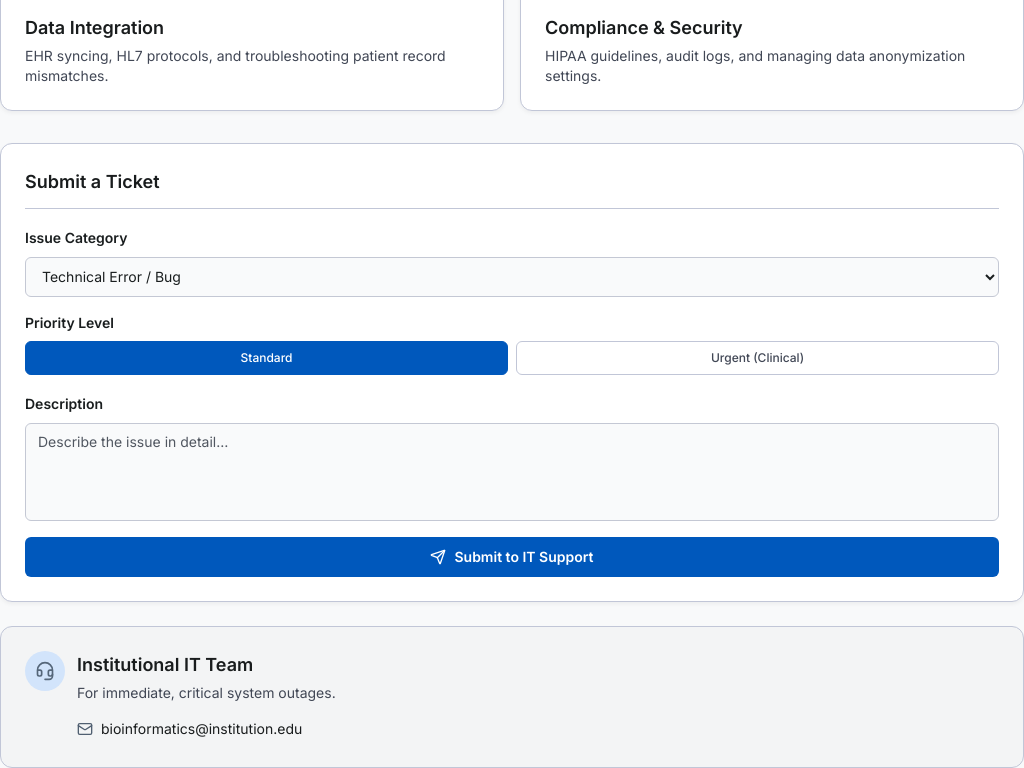
Test: SupportPage (RTS-040) › requires description before submitting ticket
The width and height of the screenshot is (1024, 768).
(page scrolled)
What coordinates should you click on to do the following:
click the button "Submit to IT Support"
I would click on:
 (512, 557)
Its box is left=25, top=537, right=999, bottom=577.
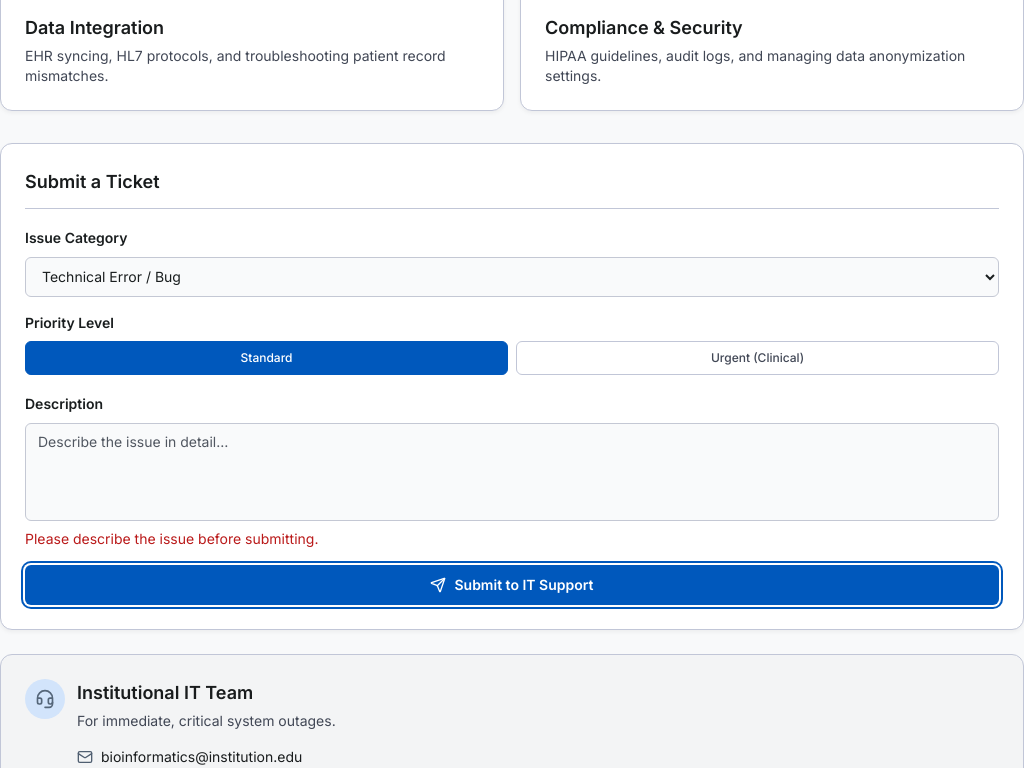
Now the message shows "Please describe the issue", box left=25, top=530, right=318, bottom=547
